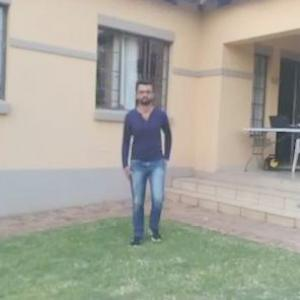follow: (123, 73, 176, 251)
